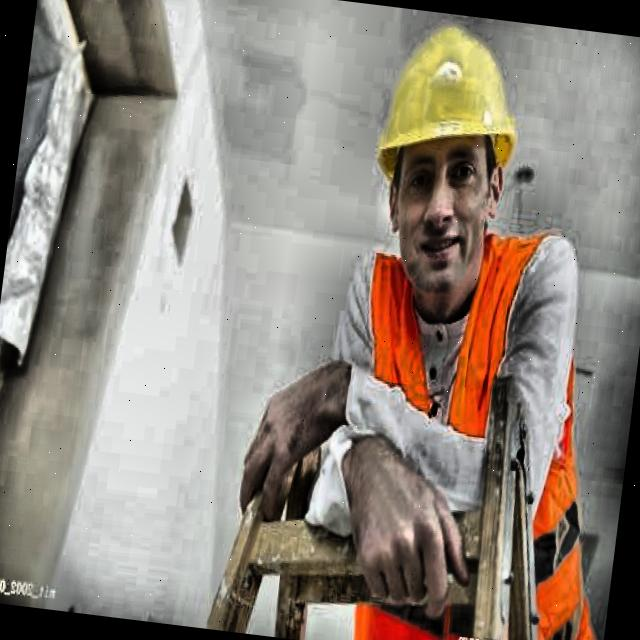helmet: (348, 17, 546, 327)
